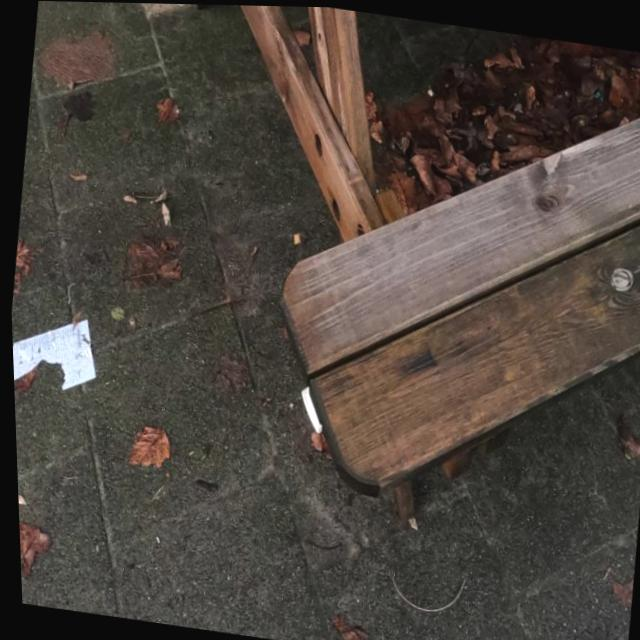Paper: (9, 301, 102, 399)
